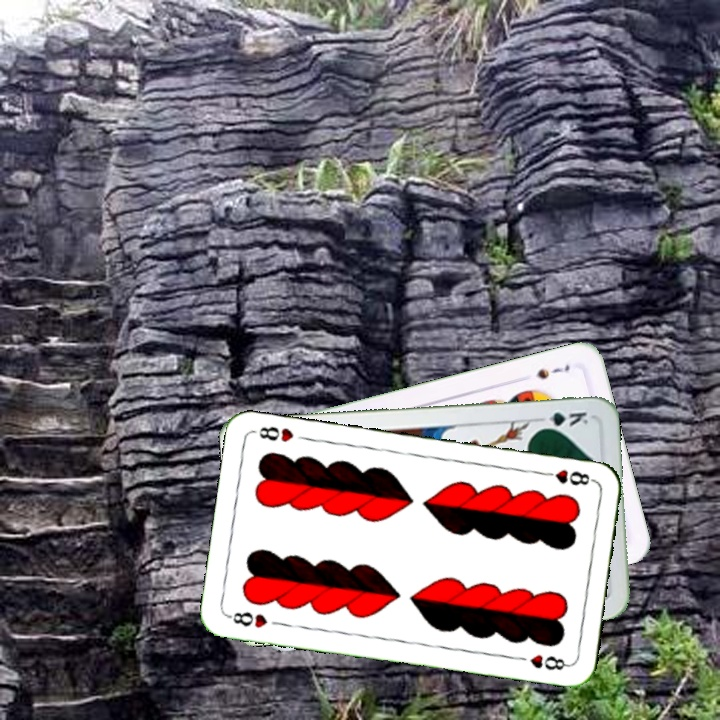GK: (533, 408, 591, 432)
H8: (537, 465, 597, 488), (224, 607, 270, 631)
S7: (531, 360, 573, 382)
